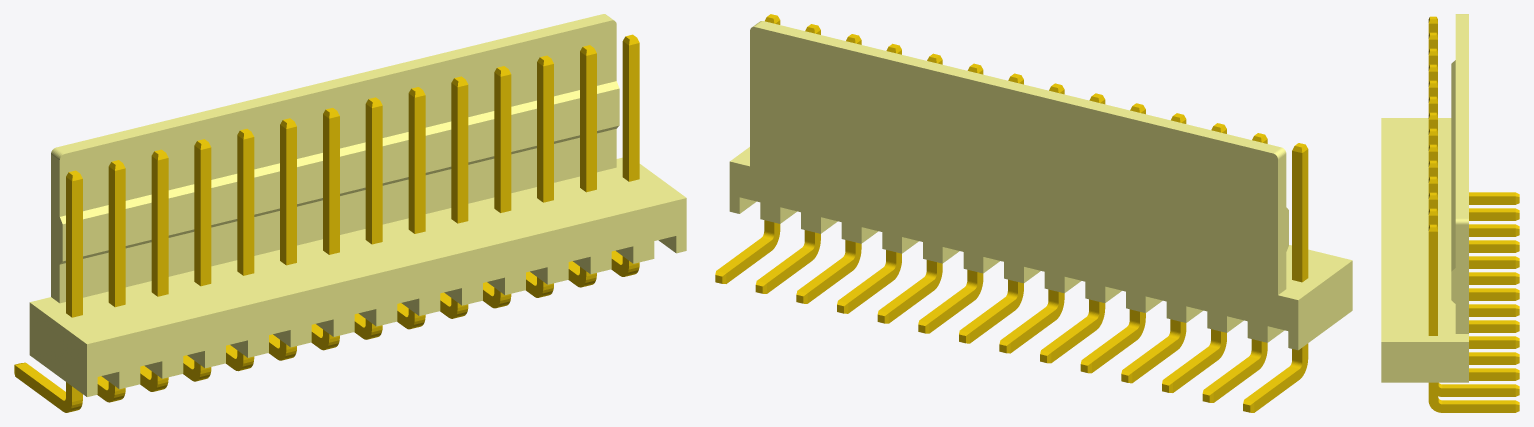
The model's file is DS1070-14MR (WF-14RA CONNFLY).obj.
The picture shows the model from 3 angles, left to right: view 1: azimuth 30°, elevation 25°; view 2: azimuth 150°, elevation 25°; view 3: azimuth 270°, elevation 25°; orthographic projection. The views are drawn at different scales.
Visible parts, largest first — view 1: DS1070-14MR_(WF-14RA_CONNFLY); view 2: DS1070-14MR_(WF-14RA_CONNFLY); view 3: DS1070-14MR_(WF-14RA_CONNFLY).
Boxes of the visible parts, bbox=[...] form: DS1070-14MR_(WF-14RA_CONNFLY): bbox=[14, 14, 686, 412]; DS1070-14MR_(WF-14RA_CONNFLY): bbox=[715, 14, 1352, 412]; DS1070-14MR_(WF-14RA_CONNFLY): bbox=[1381, 14, 1519, 412].
Size of the model in its own units: 0.0144 by 0.00571 by 0.00376.
